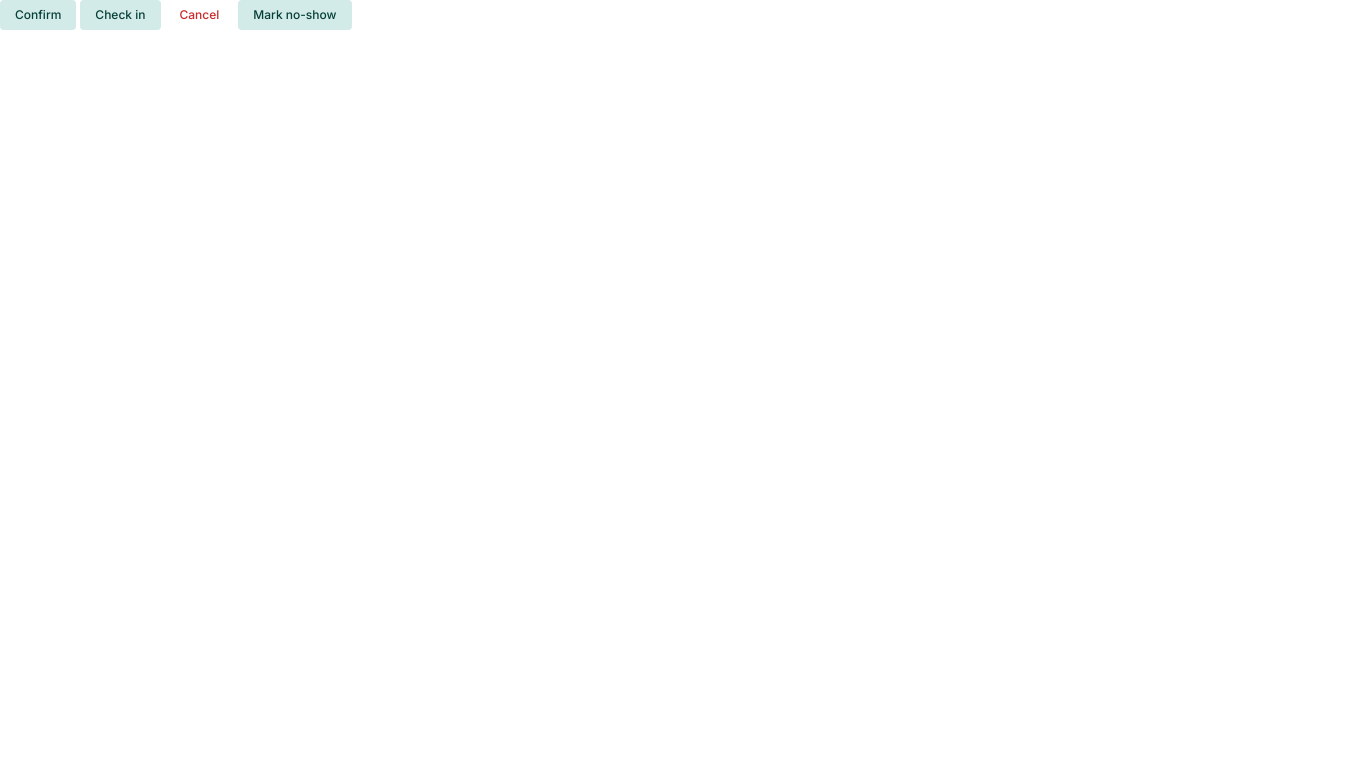
Test case: AppointmentStatusActions › guards cancellation with a consequence and no Undo
The width and height of the screenshot is (1366, 768).
Click the button "Cancel" at {"x": 199, "y": 15}, box [164,0,234,30]
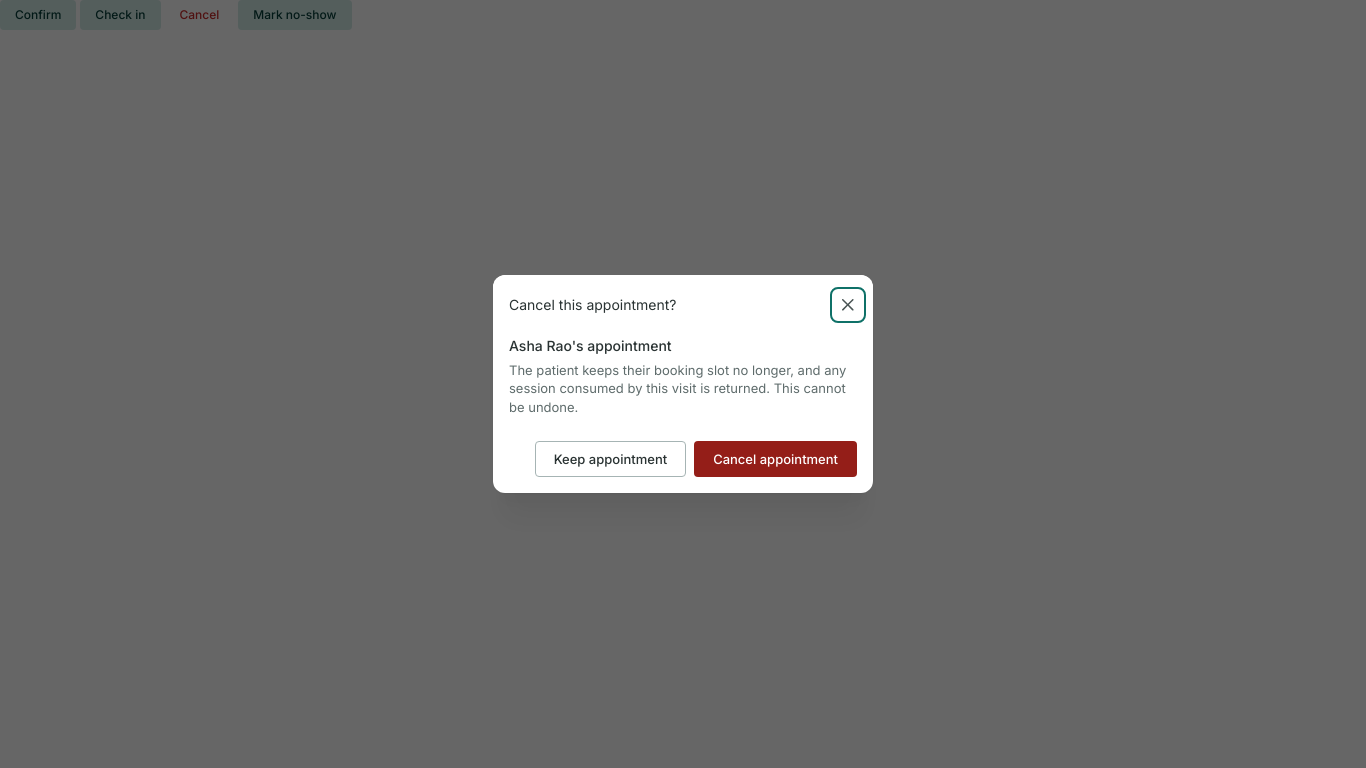
expect the text "session consumed by this visit is returned" is shown: met, box [509,362,846,415]
